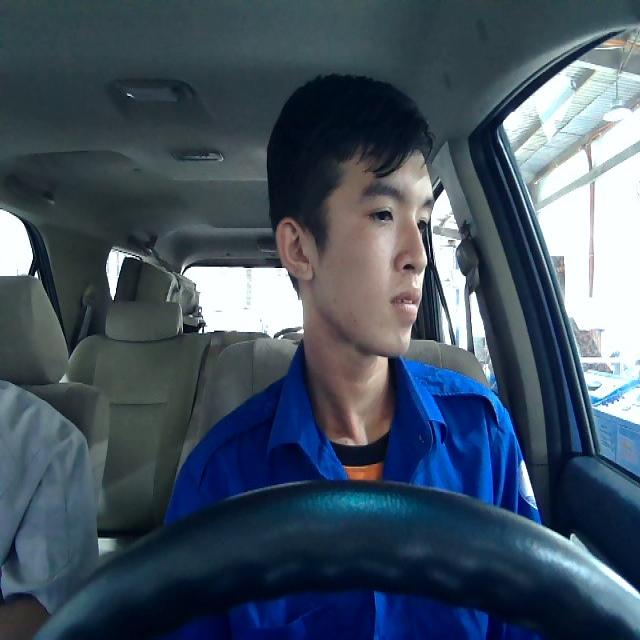seeing_right: (269, 137, 435, 359)
